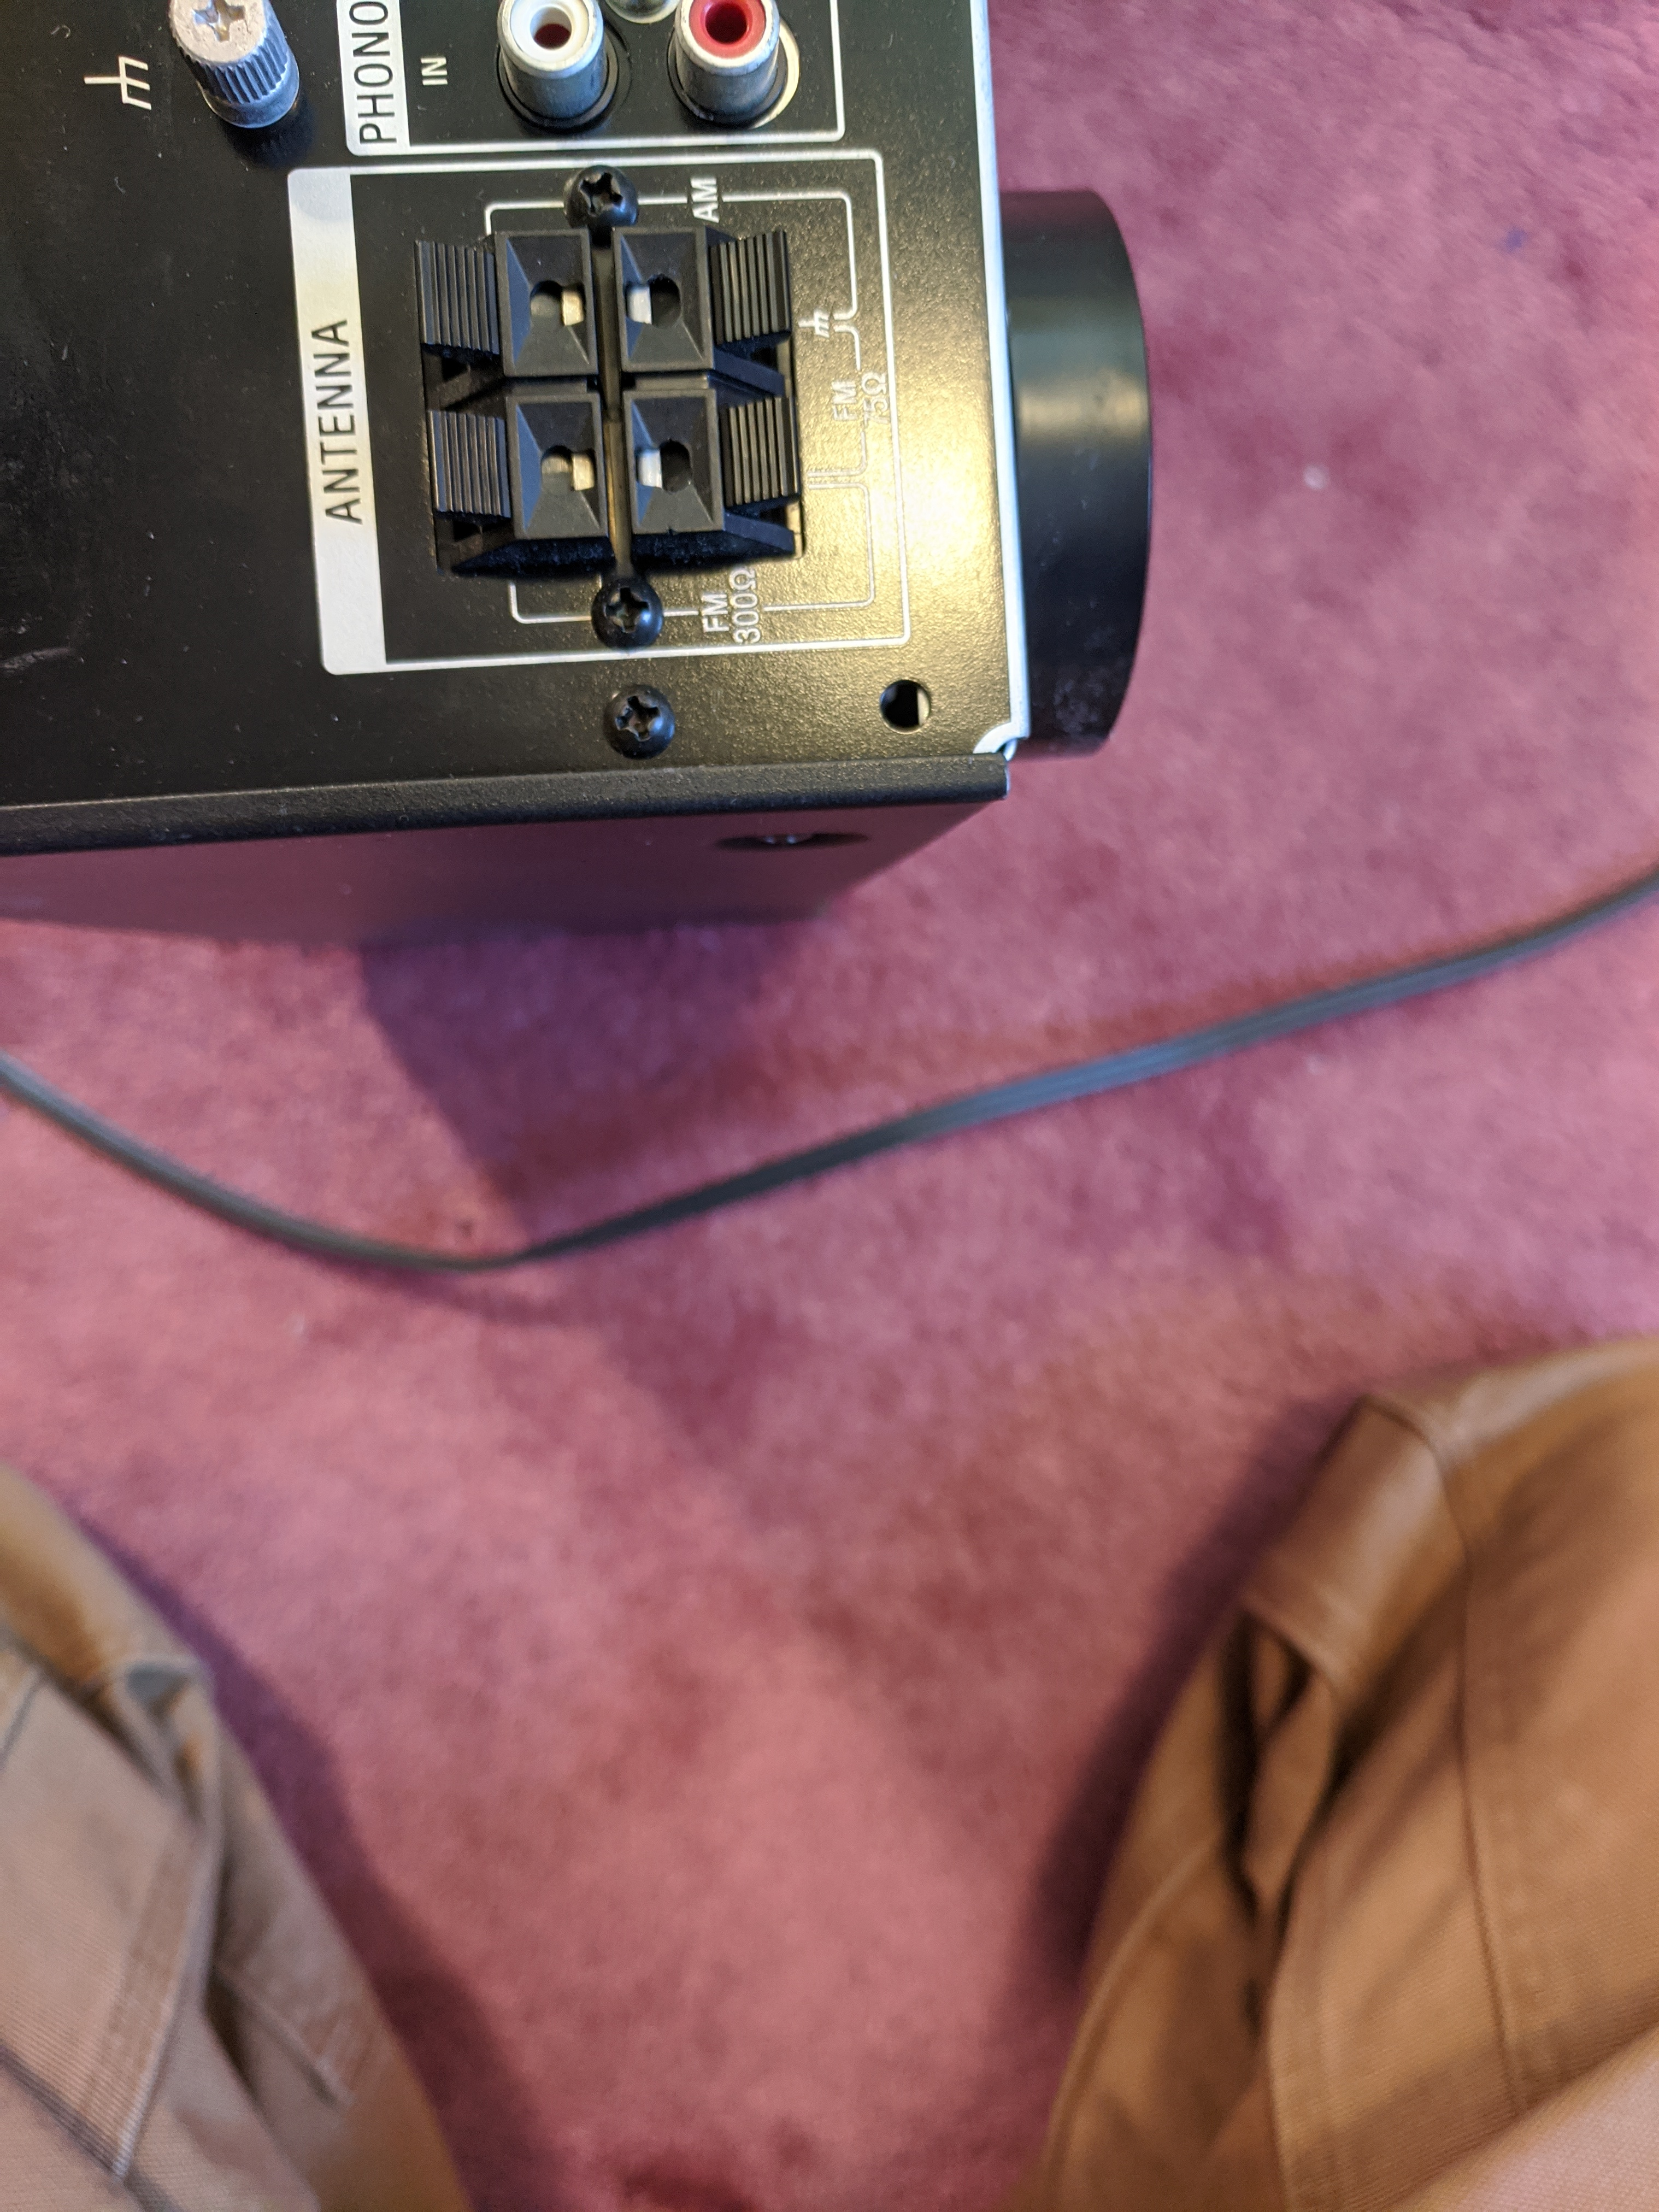cross_recessed_screw: (558, 153, 645, 240), (579, 564, 657, 646), (596, 679, 673, 749)
